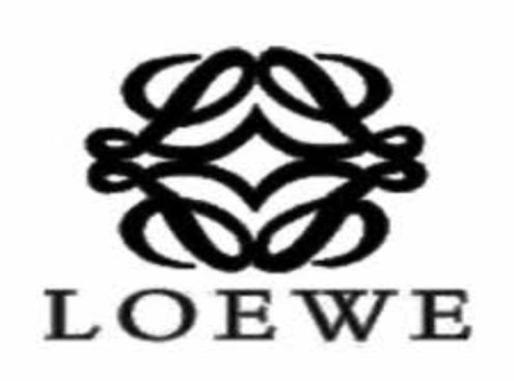LOEWE: (29, 32, 498, 363)
